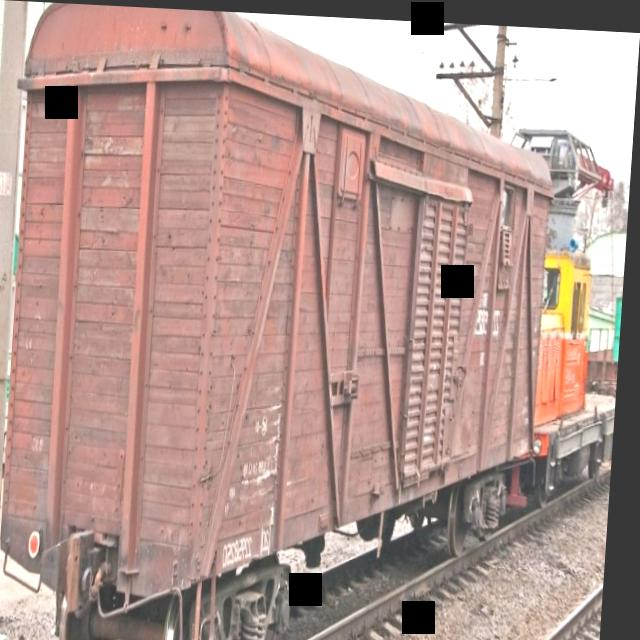boxcar: (0, 1, 559, 640)
cargo: (536, 226, 604, 424)
flatcar: (534, 374, 622, 505)
